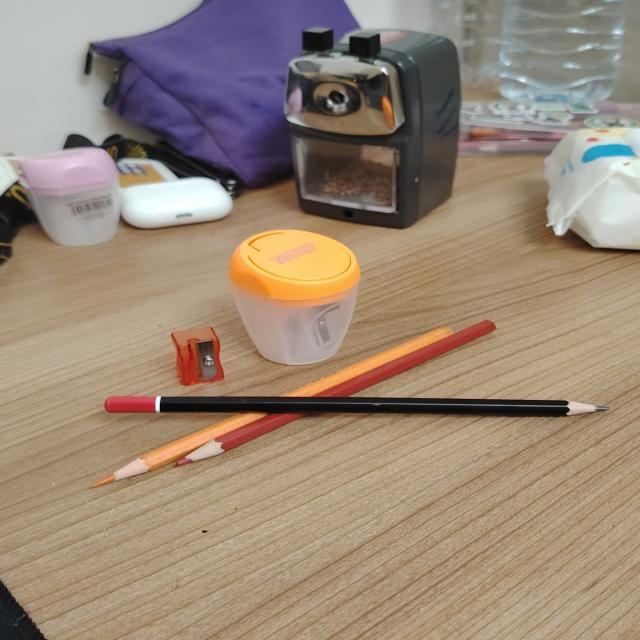pencil: (320, 321, 495, 397), (92, 413, 266, 487), (284, 327, 454, 397), (108, 396, 607, 416), (177, 413, 304, 465)
sharpener: (285, 28, 461, 228), (229, 229, 360, 365), (18, 147, 120, 246), (172, 327, 224, 385)
